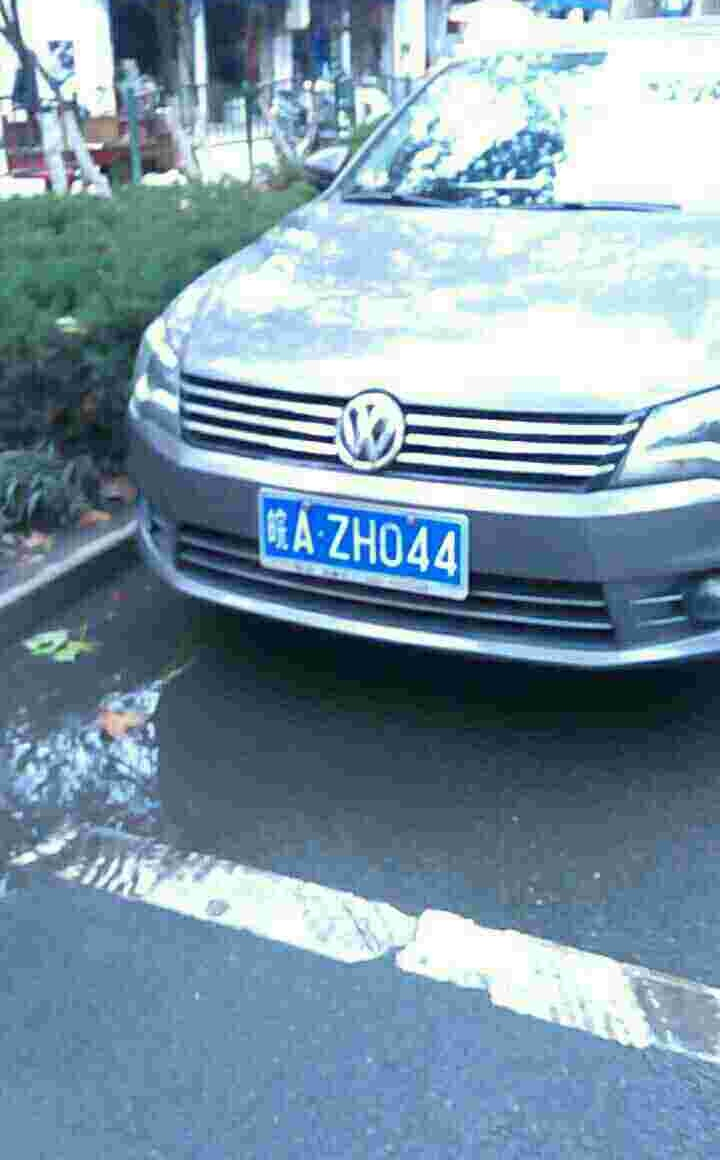car: (257, 493, 514, 587)
